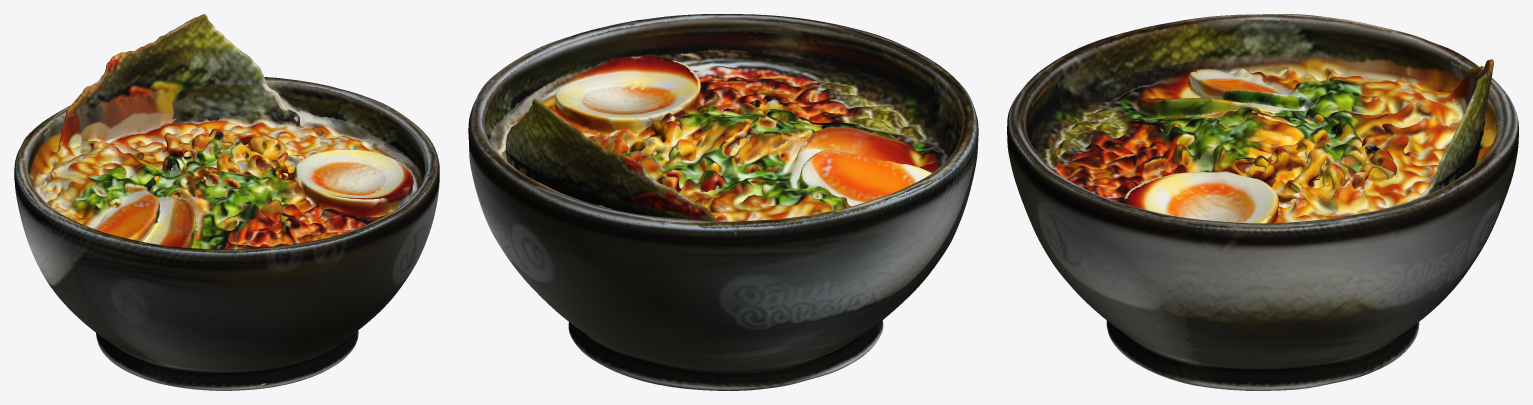
The model's file is ramen.glb.
The picture shows the model from 3 angles, left to right: view 1: azimuth 30°, elevation 25°; view 2: azimuth 150°, elevation 25°; view 3: azimuth 270°, elevation 25°; orthographic projection. The views are drawn at different scales.
Parts seen in each view (by area): view 1: Mesh; view 2: Mesh; view 3: Mesh.
Boxes of the visible parts, x1,y1,x2,y2 form: Mesh: [14, 14, 439, 390]; Mesh: [468, 14, 978, 390]; Mesh: [1007, 14, 1518, 390].
Bounding box in the file's own units: 0.9892 × 0.6279 × 0.9868.
1 material, 1 textured.
